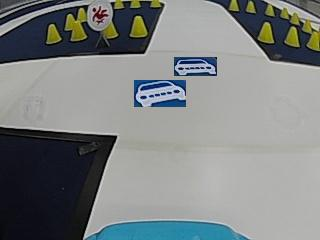cone: (129, 15, 147, 37), (257, 21, 274, 44), (70, 21, 86, 41), (284, 26, 299, 47), (45, 23, 60, 44), (306, 30, 319, 51), (103, 22, 118, 39), (65, 12, 74, 30), (265, 3, 275, 17), (246, 1, 256, 14), (290, 11, 299, 25), (228, 0, 239, 11), (303, 18, 311, 33), (280, 6, 289, 19), (113, 0, 124, 9), (130, 0, 141, 8), (150, 0, 161, 8)
tumble: (87, 4, 114, 26)
